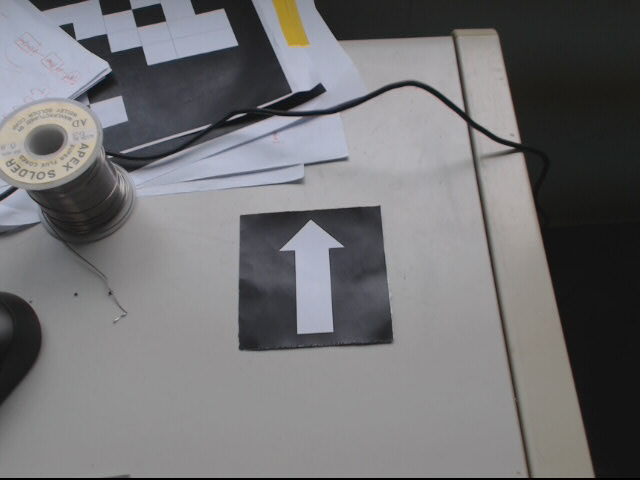straight: (239, 206, 393, 350)
